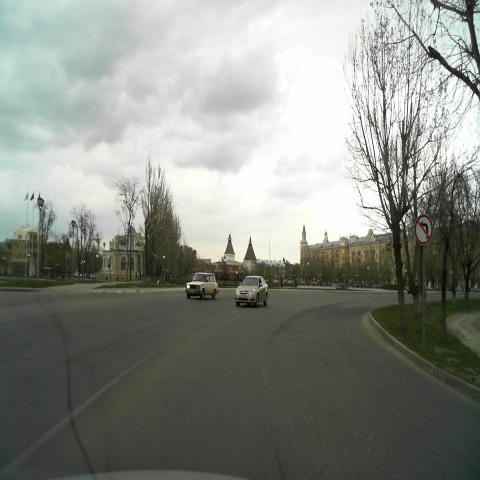3_18_2: (414, 213, 434, 247)
